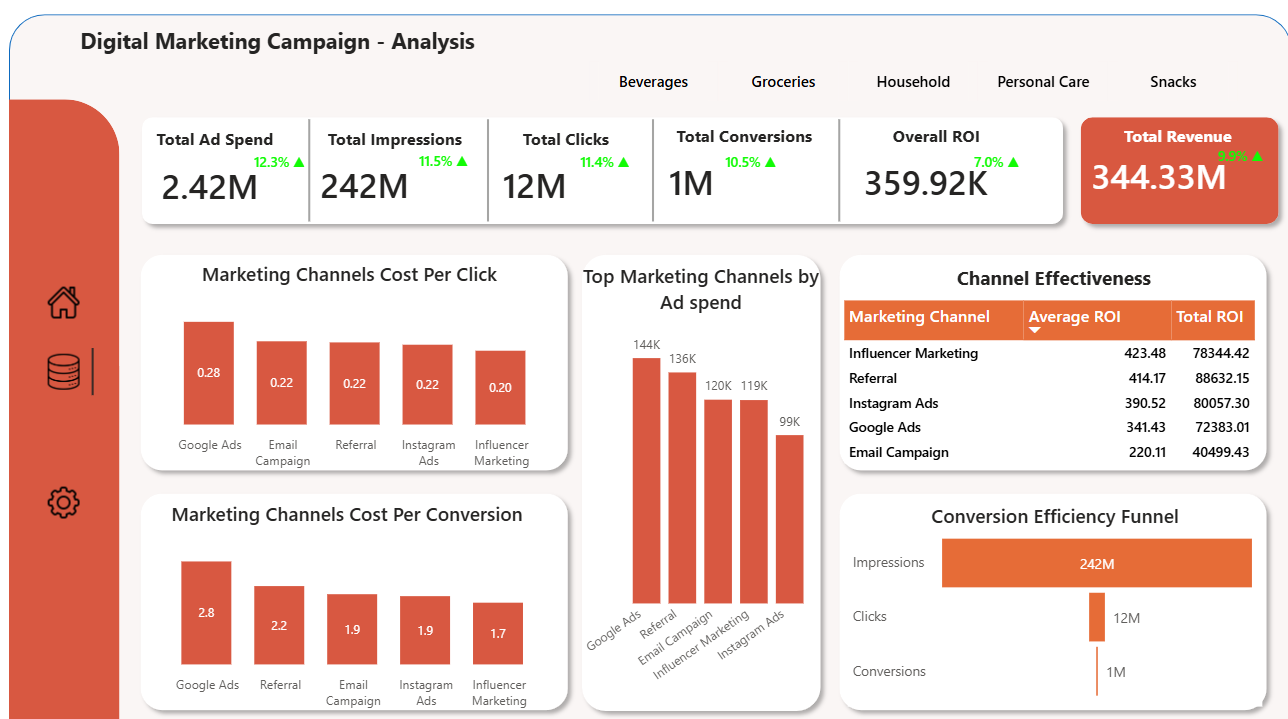

The page's visual inventory and layout, read from the dashboard file:
{"tool":"powerbi","page":{"name":"Analysis","canvas":[1280,720],"ordinal":1},"visuals":[{"type":"shape","box":[14.3,20.7,1255,699.9],"z":0},{"type":"shape","box":[14.3,103.4,108.2,617.2],"z":1000},{"type":"image","box":[47.7,279.9,41.4,46.1],"z":2000},{"type":"image","box":[47.7,475.6,41.4,46.1],"z":3000},{"type":"image","box":[47.7,346.8,41.4,46.1],"z":4000},{"type":"textbox","box":[79.5,27,469.2,65.2],"z":6000},{"type":"shape","box":[1054.6,112.9,211.6,122.5],"z":7000},{"type":"shape","box":[135.2,112.9,919,122.5],"z":8000},{"type":"shape","box":[302.2,124.1,12.7,100.2],"z":9000},{"type":"shape","box":[477.2,124.1,12.7,100.2],"z":10000},{"type":"shape","box":[637.8,124.1,12.7,100.2],"z":11000},{"type":"shape","box":[820.8,124.1,12.7,100.2],"z":12000},{"type":"shape","box":[566.3,246.5,251.3,464.5],"z":13000},{"type":"shape","box":[817.6,246.5,435.8,229],"z":14000},{"type":"shape","box":[817.6,480.4,435.8,230],"z":15000},{"type":"shape","box":[134.1,247,435.8,229],"z":16000},{"type":"shape","box":[134.1,480.5,435.8,230],"z":17000},{"type":"textbox","box":[154.3,125.7,146.3,35],"z":18000},{"type":"textbox","box":[321.3,125.7,151.1,35],"z":19000},{"type":"textbox","box":[512.2,125.7,108.2,35],"z":20000},{"type":"textbox","box":[663.3,124.1,160.7,36.6],"z":21000},{"type":"textbox","box":[874.8,124.1,111.3,35],"z":22000},{"type":"textbox","box":[1100.7,124.1,136.8,36.6],"z":23000},{"type":"cardVisual","fields":{"Data":["Sum(Table1.Ad Spend (INR))"]},"box":[146.3,143.2,135.2,81.1],"z":24000},{"type":"cardVisual","fields":{"Data":["Table1.AdSpend MOM% with Arrow"]},"box":[237,132,112.9,57.3],"z":25000},{"type":"cardVisual","fields":{"Data":["Sum(Table1.Impressions)"]},"box":[302.2,141.6,135.2,81.1],"z":26000},{"type":"cardVisual","fields":{"Data":["Table1.iMPRESSION MOM% with Arrow"]},"box":[398.6,131.4,112.9,57.3],"z":27000},{"type":"cardVisual","fields":{"Data":["Sum(Table1.Clicks)"]},"box":[480.4,141.6,135.2,81.1],"z":28000},{"type":"cardVisual","fields":{"Data":["Table1.Clicks MOM% with Arrow"]},"box":[556.7,132,112.9,57.3],"z":29000},{"type":"cardVisual","fields":{"Data":["Sum(Table1.Conversions)"]},"box":[642.6,140,135.2,81.1],"z":30000},{"type":"cardVisual","fields":{"Data":["Table1.Conversion MOM% with Arrow"]},"box":[698.3,132,112.9,57.3],"z":31000},{"type":"cardVisual","fields":{"Data":["Sum(Table1.ROI)"]},"box":[833.5,140,168.6,81.1],"z":32000},{"type":"cardVisual","fields":{"Data":["Table1.ROI MOM% with Arrow"]},"box":[941.6,132,112.9,57.3],"z":33000},{"type":"cardVisual","fields":{"Data":["Sum(Table1.Revenue (INR))"]},"box":[1056.2,133.6,168.6,81.1],"z":34000},{"type":"cardVisual","fields":{"Data":["Table1.Revenue MOM% with Arrow"]},"box":[1180.2,125.7,85.9,57.3],"z":35000},{"type":"columnChart","title":"Marketing Channels Cost Per Click","fields":{"Category":["Table1.Marketing Channel"],"Y":["Table1.CostPerClick"]},"box":[140,261.7,416.7,211.7],"z":36000},{"type":"columnChart","title":"Marketing Channels Cost Per Conversion","fields":{"Category":["Table1.Marketing Channel"],"Y":["Table1.CostPerConversion"]},"box":[136.8,496.3,416.7,211.6],"z":37000},{"type":"tableEx","fields":{"Values":["Table1.Marketing Channel","Avg(Table1.ROI)","Sum(Table1.ROI)1"]},"box":[825.5,295.9,427.9,194.1],"z":38000},{"type":"textbox","box":[932.1,260.9,222.7,36.6],"z":39000},{"type":"funnel","title":"Conversion Efficiency Funnel","fields":{"Y":["Sum(Table1.Impressions)","Sum(Table1.Clicks)","Sum(Table1.Conversions)"]},"box":[835.1,499.5,405.6,198.8],"z":40000},{"type":"columnChart","title":"Top Marketing Channels by Ad spend","fields":{"Y":["Sum(Table1.Ad Spend (INR))"],"Category":["Table1.Marketing Channel"]},"box":[571,264,241,434.2],"z":41000},{"type":"shape","box":[76.3,346.8,41.4,46.1],"z":42000},{"type":"slicer","fields":{"Values":["Table1.Category"]},"box":[556.7,60.4,684,52.5],"z":44000}]}

Visuals, with their boxes on the page's 1280x720 design canvas (x1, y1, x2, y2). These are canvas units, not pixel positions in the 1288x719 screenshot, which may show the page scaled, cropped or inside an application window:
shape: [x1=14, y1=21, x2=1269, y2=721]
shape: [x1=14, y1=103, x2=122, y2=721]
image: [x1=48, y1=280, x2=89, y2=326]
image: [x1=48, y1=476, x2=89, y2=522]
image: [x1=48, y1=347, x2=89, y2=393]
textbox: [x1=80, y1=27, x2=549, y2=92]
shape: [x1=1055, y1=113, x2=1266, y2=235]
shape: [x1=135, y1=113, x2=1054, y2=235]
shape: [x1=302, y1=124, x2=315, y2=224]
shape: [x1=477, y1=124, x2=490, y2=224]
shape: [x1=638, y1=124, x2=650, y2=224]
shape: [x1=821, y1=124, x2=834, y2=224]
shape: [x1=566, y1=246, x2=818, y2=711]
shape: [x1=818, y1=246, x2=1253, y2=476]
shape: [x1=818, y1=480, x2=1253, y2=710]
shape: [x1=134, y1=247, x2=570, y2=476]
shape: [x1=134, y1=480, x2=570, y2=710]
textbox: [x1=154, y1=126, x2=301, y2=161]
textbox: [x1=321, y1=126, x2=472, y2=161]
textbox: [x1=512, y1=126, x2=620, y2=161]
textbox: [x1=663, y1=124, x2=824, y2=161]
textbox: [x1=875, y1=124, x2=986, y2=159]
textbox: [x1=1101, y1=124, x2=1238, y2=161]
cardVisual - Sum(Table1.Ad Spend (INR)): [x1=146, y1=143, x2=282, y2=224]
cardVisual - Table1.AdSpend MOM% with Arrow: [x1=237, y1=132, x2=350, y2=189]
cardVisual - Sum(Table1.Impressions): [x1=302, y1=142, x2=437, y2=223]
cardVisual - Table1.iMPRESSION MOM% with Arrow: [x1=399, y1=131, x2=512, y2=189]
cardVisual - Sum(Table1.Clicks): [x1=480, y1=142, x2=616, y2=223]
cardVisual - Table1.Clicks MOM% with Arrow: [x1=557, y1=132, x2=670, y2=189]
cardVisual - Sum(Table1.Conversions): [x1=643, y1=140, x2=778, y2=221]
cardVisual - Table1.Conversion MOM% with Arrow: [x1=698, y1=132, x2=811, y2=189]
cardVisual - Sum(Table1.ROI): [x1=834, y1=140, x2=1002, y2=221]
cardVisual - Table1.ROI MOM% with Arrow: [x1=942, y1=132, x2=1054, y2=189]
cardVisual - Sum(Table1.Revenue (INR)): [x1=1056, y1=134, x2=1225, y2=215]
cardVisual - Table1.Revenue MOM% with Arrow: [x1=1180, y1=126, x2=1266, y2=183]
"Marketing Channels Cost Per Click" columnChart: [x1=140, y1=262, x2=557, y2=473]
"Marketing Channels Cost Per Conversion" columnChart: [x1=137, y1=496, x2=554, y2=708]
tableEx - Table1.Marketing Channel x Avg(Table1.ROI): [x1=826, y1=296, x2=1253, y2=490]
textbox: [x1=932, y1=261, x2=1155, y2=298]
"Conversion Efficiency Funnel" funnel: [x1=835, y1=500, x2=1241, y2=698]
"Top Marketing Channels by Ad spend" columnChart: [x1=571, y1=264, x2=812, y2=698]
shape: [x1=76, y1=347, x2=118, y2=393]
slicer - Table1.Category: [x1=557, y1=60, x2=1241, y2=113]
